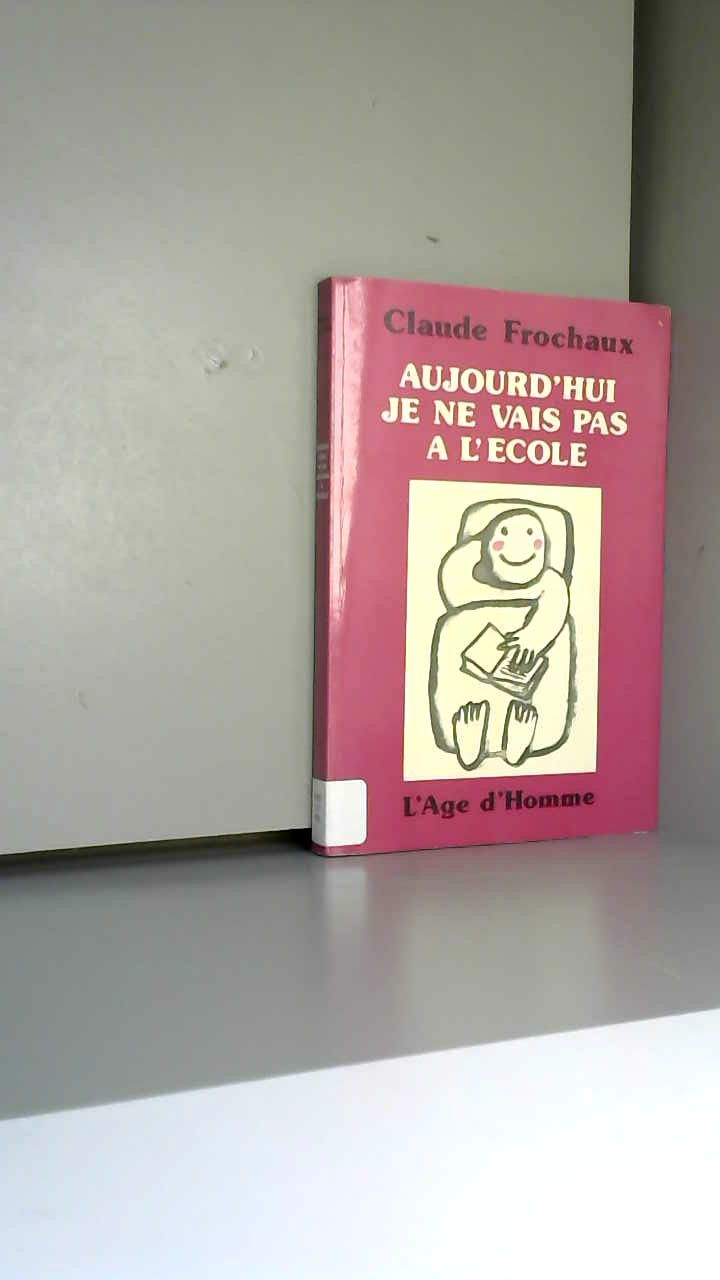book: (280, 250, 718, 899)
